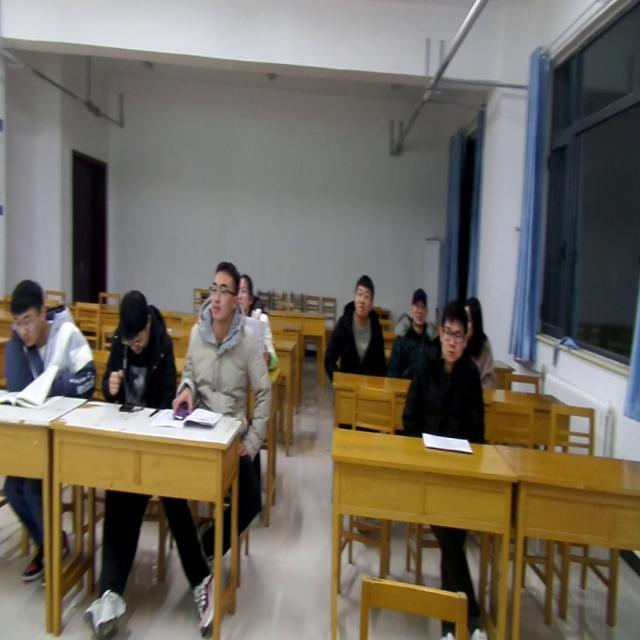bow: (0, 278, 95, 402)
down: (5, 276, 45, 346), (116, 286, 150, 356)
lookup: (435, 301, 470, 369), (207, 258, 240, 322), (348, 270, 376, 322), (408, 282, 429, 330), (236, 268, 253, 315)
sit: (172, 260, 274, 420), (400, 303, 491, 444), (100, 288, 178, 411), (323, 274, 386, 380), (388, 286, 442, 379), (236, 274, 278, 372), (462, 296, 498, 390)
